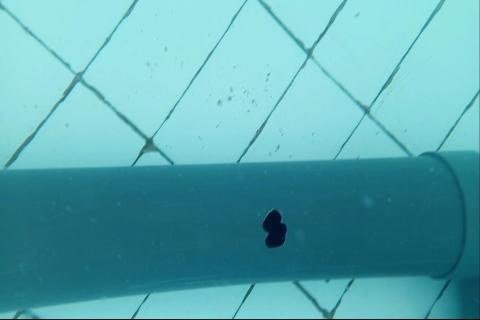kebocoran: (260, 206, 289, 251)
